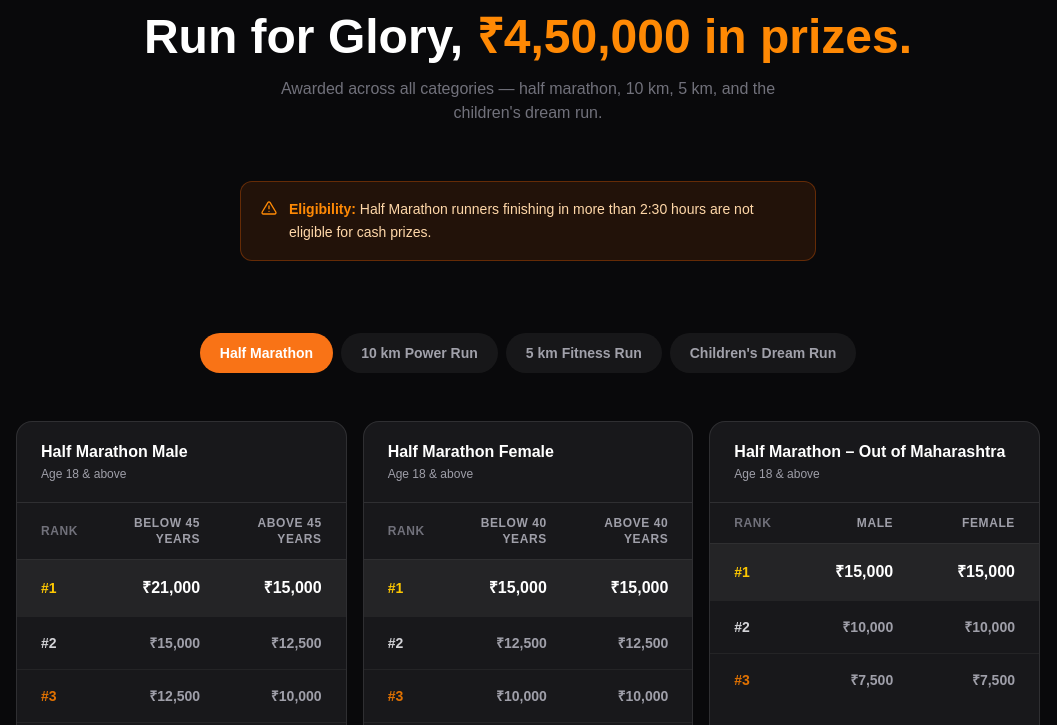
CashPrizesSection › clicking a tab switches the displayed prize tables
Click the button "10 km Power Run" at [419, 352], box left=341, top=332, right=498, bottom=372
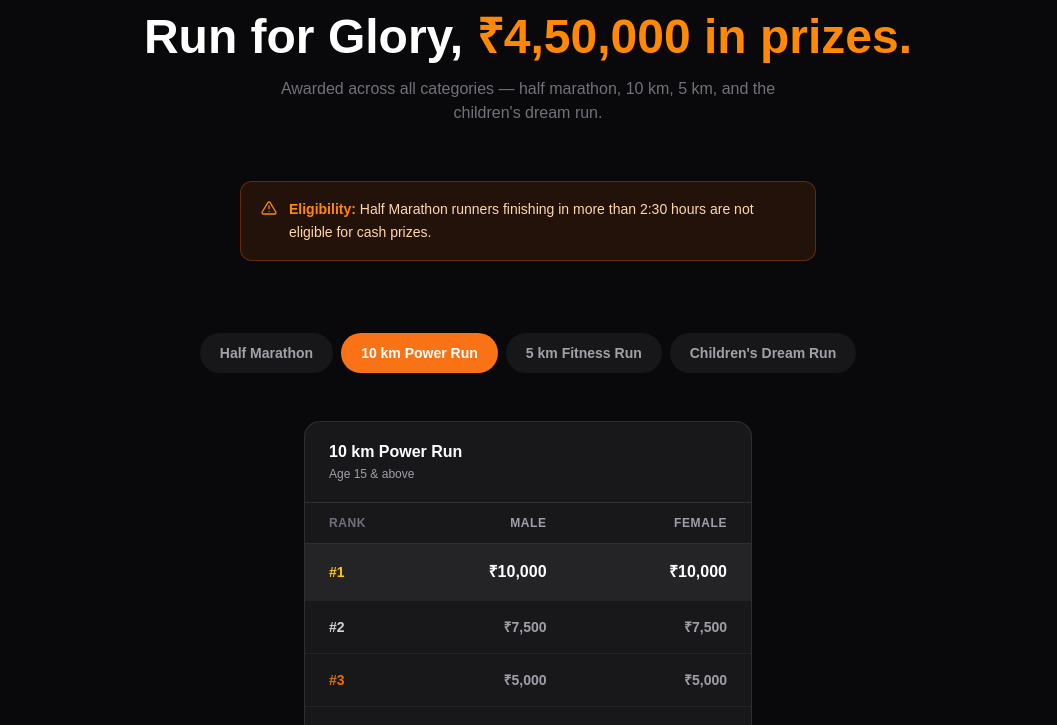
Check: the heading "10 km Power Run" is shown, box left=329, top=442, right=462, bottom=460
Check: the heading "Half Marathon Male" is gone
Check: the heading "Half Marathon Female" is gone
